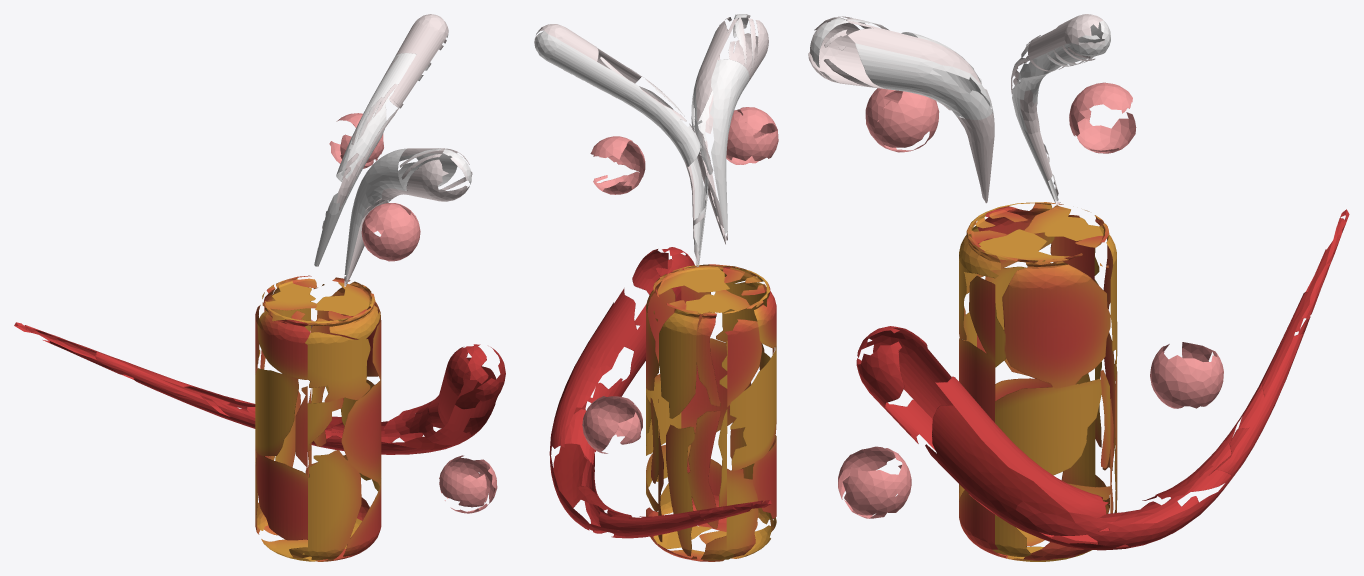
Rendered from Can.obj.
3 renders of one model, left to right at view 1: azimuth 30°, elevation 25°; view 2: azimuth 150°, elevation 25°; view 3: azimuth 270°, elevation 25°, orthographic. The views are drawn at different scales.
Visible parts, largest first — view 1: model_3, model_0, model_2, model_1; view 2: model_3, model_0, model_2, model_1; view 3: model_3, model_2, model_0, model_1.
Boxes of the visible parts, box(x1,y1,x2,y2) form: model_3: box(255, 275, 381, 561); model_0: box(314, 14, 472, 286); model_2: box(14, 322, 505, 454); model_1: box(310, 113, 497, 513); model_3: box(646, 264, 776, 561); model_0: box(534, 14, 768, 266); model_2: box(549, 247, 771, 538); model_1: box(582, 107, 778, 453); model_3: box(959, 202, 1117, 561); model_2: box(856, 209, 1349, 550); model_0: box(808, 14, 1110, 205); model_1: box(838, 82, 1223, 518).
Bounding box in the file's own units: 295 × 410 × 334.
